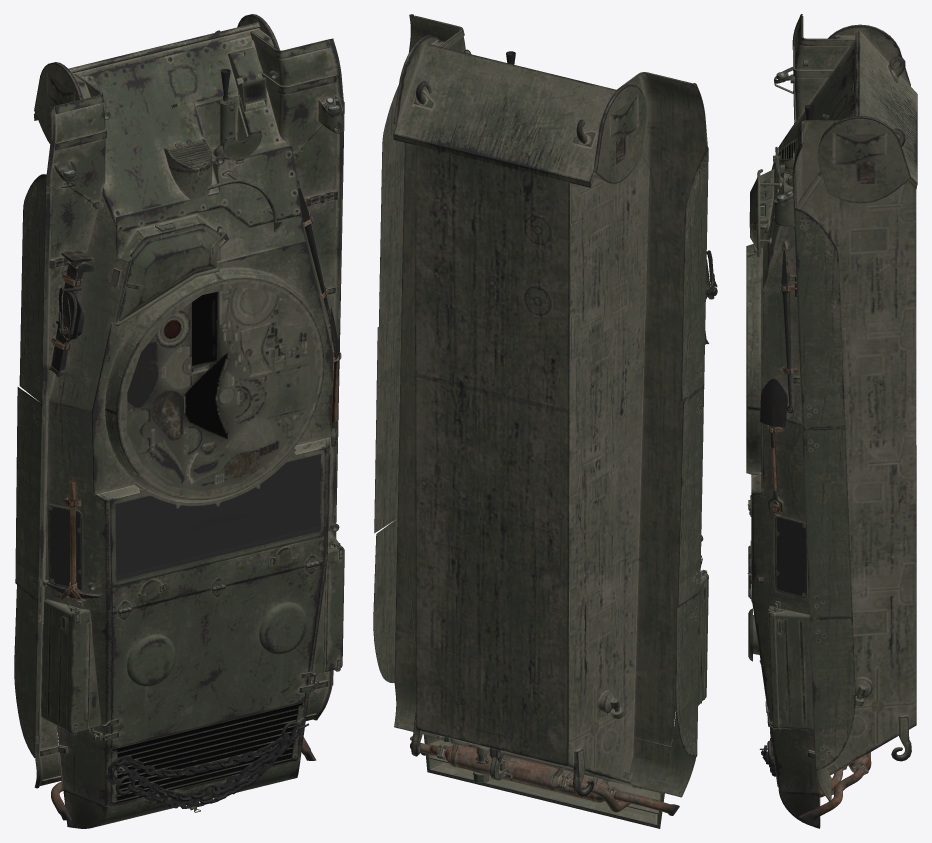
The model's file is Hull.glb.
The picture shows the model from 3 angles, left to right: view 1: azimuth 30°, elevation 25°; view 2: azimuth 150°, elevation 25°; view 3: azimuth 270°, elevation 25°; orthographic projection. The views are drawn at different scales.
Parts seen in each view (by area): view 1: set_0_group_0; view 2: set_0_group_0; view 3: set_0_group_0.
Boxes of the visible parts, <box> form: set_0_group_0: <box>14,14,344,828</box>; set_0_group_0: <box>373,14,717,828</box>; set_0_group_0: <box>746,14,917,828</box>.
Bounding box in the file's own units: 2.35 × 5.55 × 1.22.
1 material, 1 textured.
